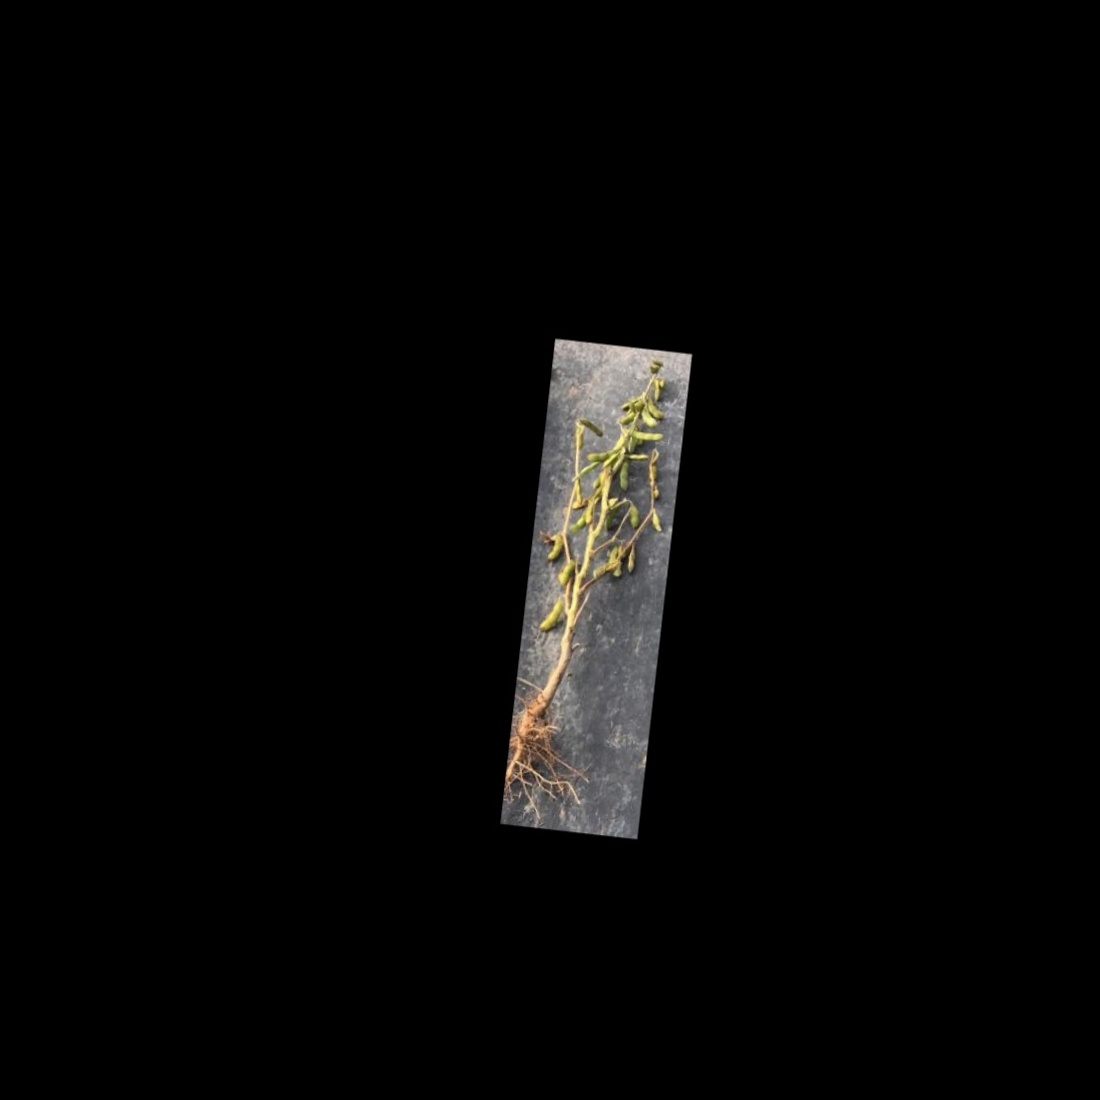pod: (536, 594, 565, 636), (626, 426, 666, 444), (578, 414, 606, 438), (545, 533, 565, 566), (624, 546, 642, 578), (582, 447, 613, 465), (648, 508, 667, 537), (616, 459, 634, 491), (627, 502, 644, 528), (650, 375, 663, 404)
soy: (514, 342, 687, 790)
